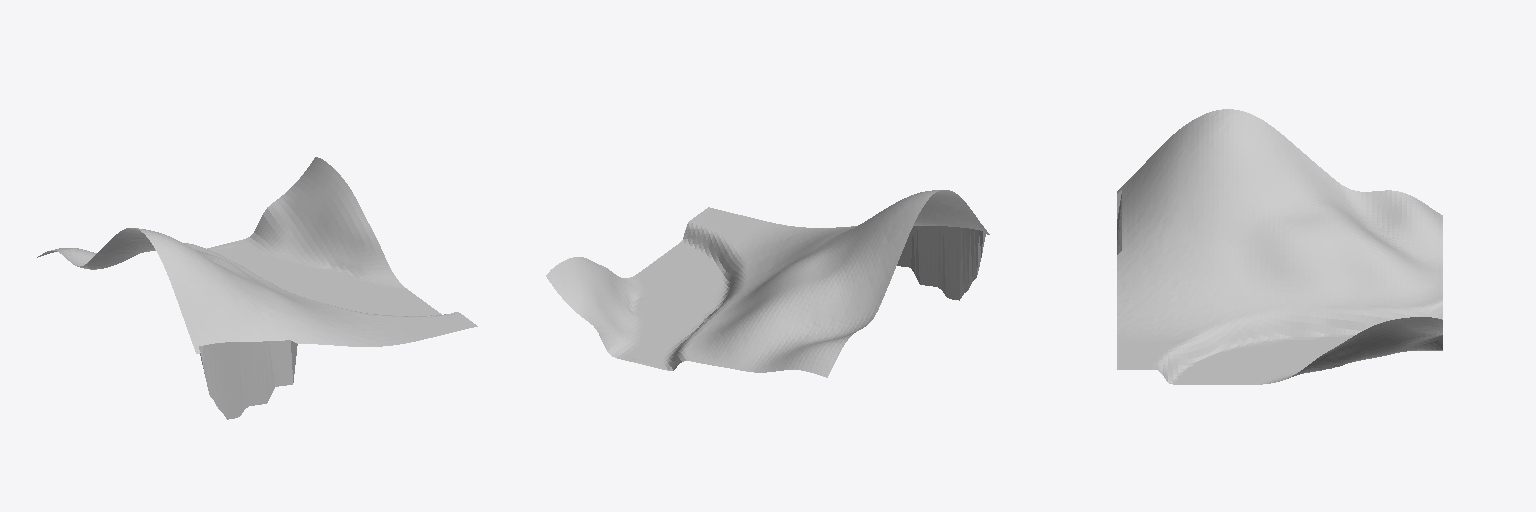
Rendered from SM_Terrain_Tuto2Chunk1.2.obj.
3 renders of one model, left to right at view 1: azimuth 30°, elevation 25°; view 2: azimuth 150°, elevation 25°; view 3: azimuth 270°, elevation 25°, orthographic.
Bounding box in the file's own units: 100 × 52.94 × 100.